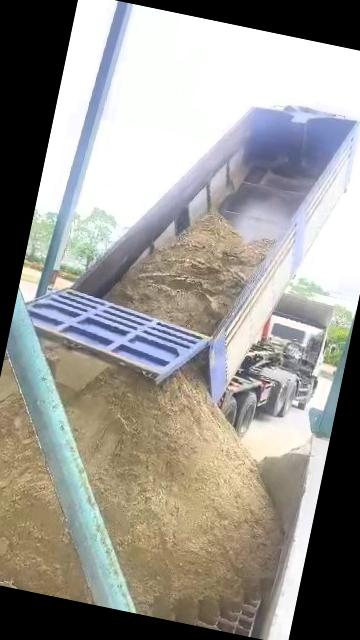sand: (66, 365, 281, 624), (106, 215, 272, 334), (0, 395, 90, 601), (42, 339, 106, 393), (259, 446, 307, 514), (0, 361, 15, 404)
